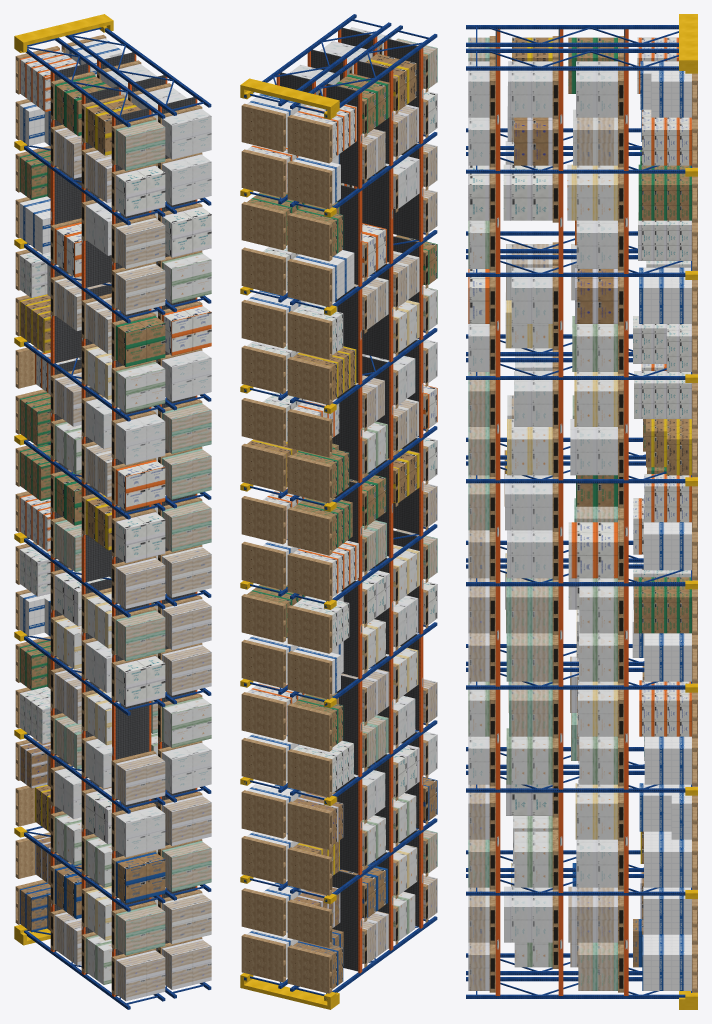
File: racks_e3_n.gltf
3 views of the same model, side by side, from view 1: azimuth 30°, elevation 25°; view 2: azimuth 150°, elevation 25°; view 3: azimuth 270°, elevation 25° (orthographic). The views are drawn at different scales.
Visible parts, largest first — view 1: racks_e3_n; view 2: racks_e3_n; view 3: racks_e3_n.
Part boxes in pixels (x1,y1,x2,y2): racks_e3_n: [14, 14, 211, 1009]; racks_e3_n: [240, 14, 437, 1009]; racks_e3_n: [466, 14, 697, 1009].
Bounding box in the file's own units: 2.6 × 24.86 × 5.5.
Materials: 21 (21 with a texture image).
